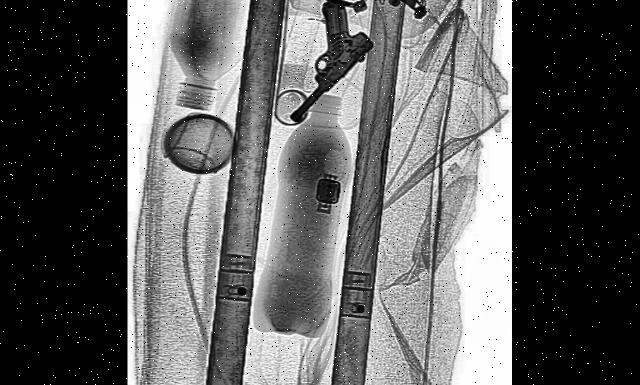Gun: (272, 0, 372, 131)
